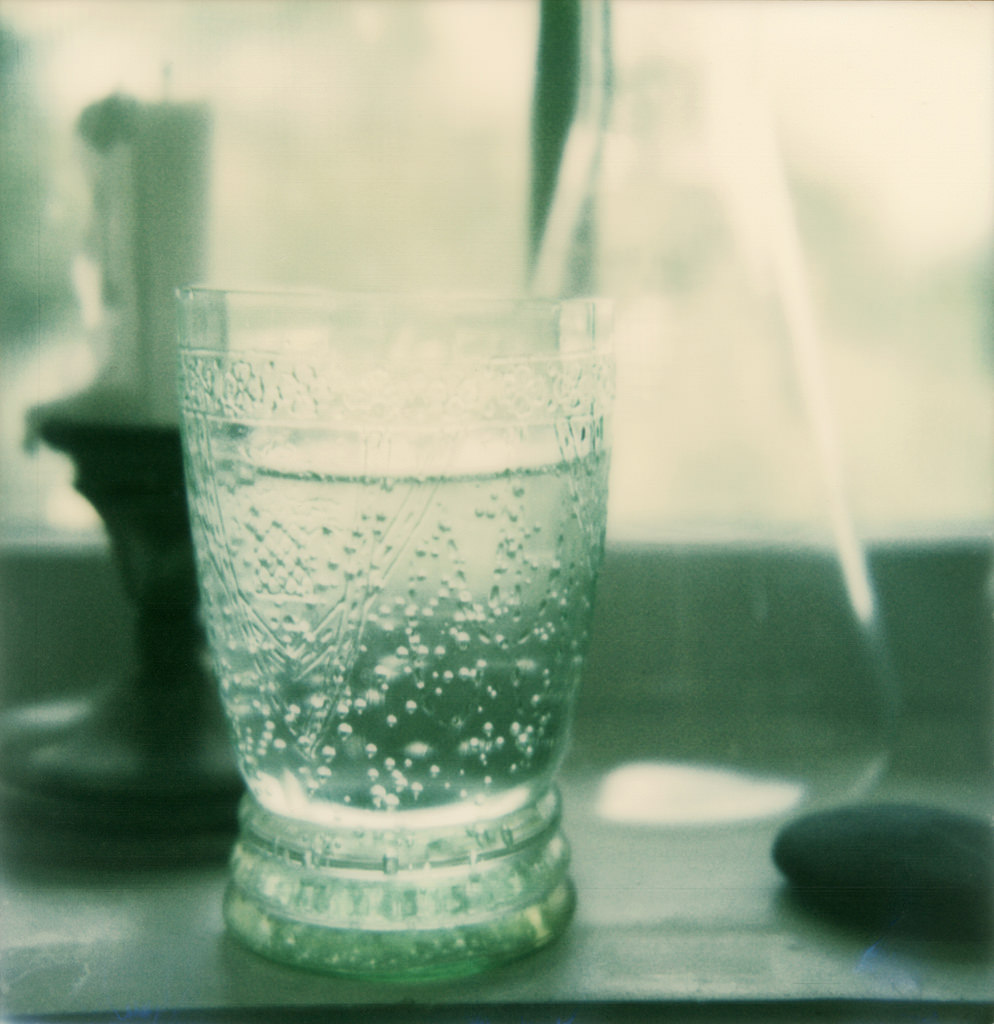glass of water: (133, 225, 624, 991)
